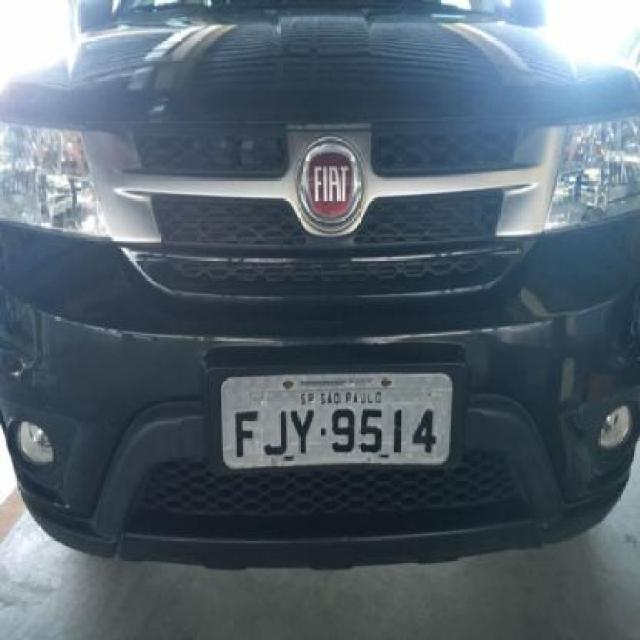old_plate: (213, 361, 460, 478)
